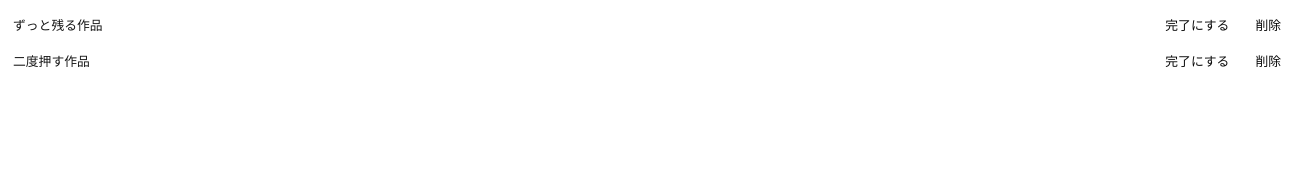
WorkList のステータス変更 › ダブルクリックしても、エラーを出さずに移る
The image size is (1304, 172).
Double-click the button with aria-label "「二度押す作品」を完了にする" at (1197, 62), box x1=1154 y1=48 x2=1240 y2=76
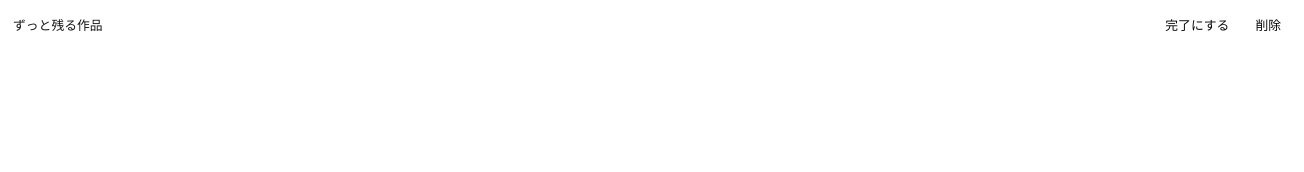
Expected: the button "ずっと残る作品" is shown, x1=12 y1=15 x2=104 y2=37
Expected: the button "二度押す作品" is gone
